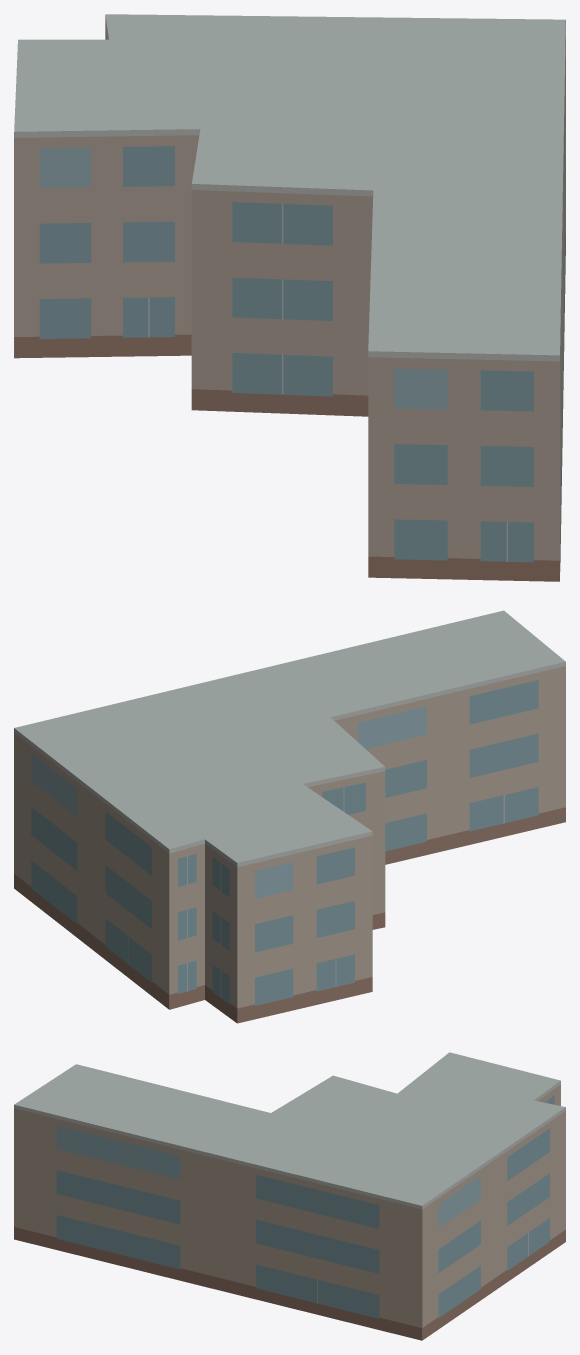
The model's file is survey-upis-32490721.glb.
3 renders of one model, top to bottom at view 1: azimuth 30°, elevation 25°; view 2: azimuth 150°, elevation 25°; view 3: azimuth 270°, elevation 25°, orthographic. The views are drawn at different scales.
Parts seen in each view (by area): view 1: survey-upis-32490721.tmp; view 2: survey-upis-32490721.tmp; view 3: survey-upis-32490721.tmp.
Boxes of the visible parts, x1,y1,x2,y2 form: survey-upis-32490721.tmp: [14, 14, 565, 581]; survey-upis-32490721.tmp: [14, 610, 565, 1023]; survey-upis-32490721.tmp: [14, 1052, 565, 1340].
Size of the model in its own units: 22.38 by 9.15 by 33.96.
